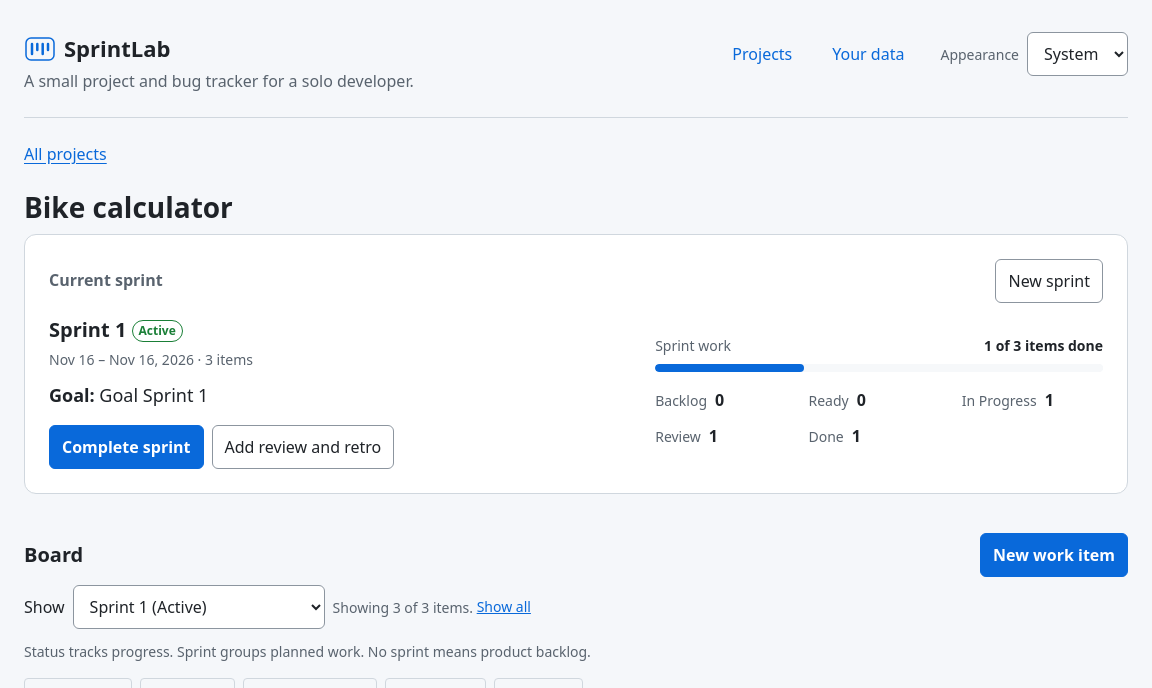
Test: Completing a sprint › explains how to carry work over when there is no planned sprint
This screenshot has width=1152, height=688.
Click the button with aria-label "Complete Sprint 1". click: click(126, 447)
box: x1=49 y1=425 x2=204 y2=469
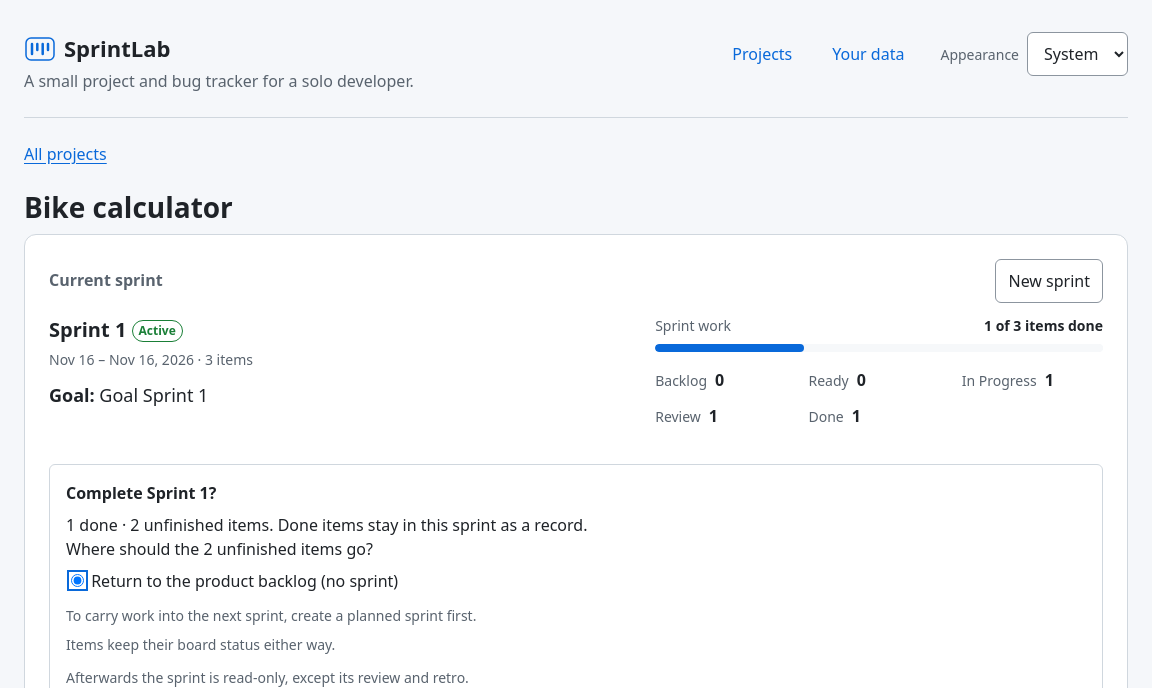
Expected: the text "To carry work into the next sprint, create a planned sprint first." is shown, x1=66 y1=606 x2=476 y2=625
